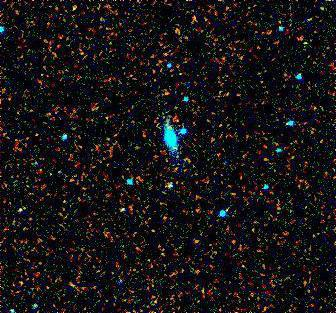star: (299, 0, 329, 28)
